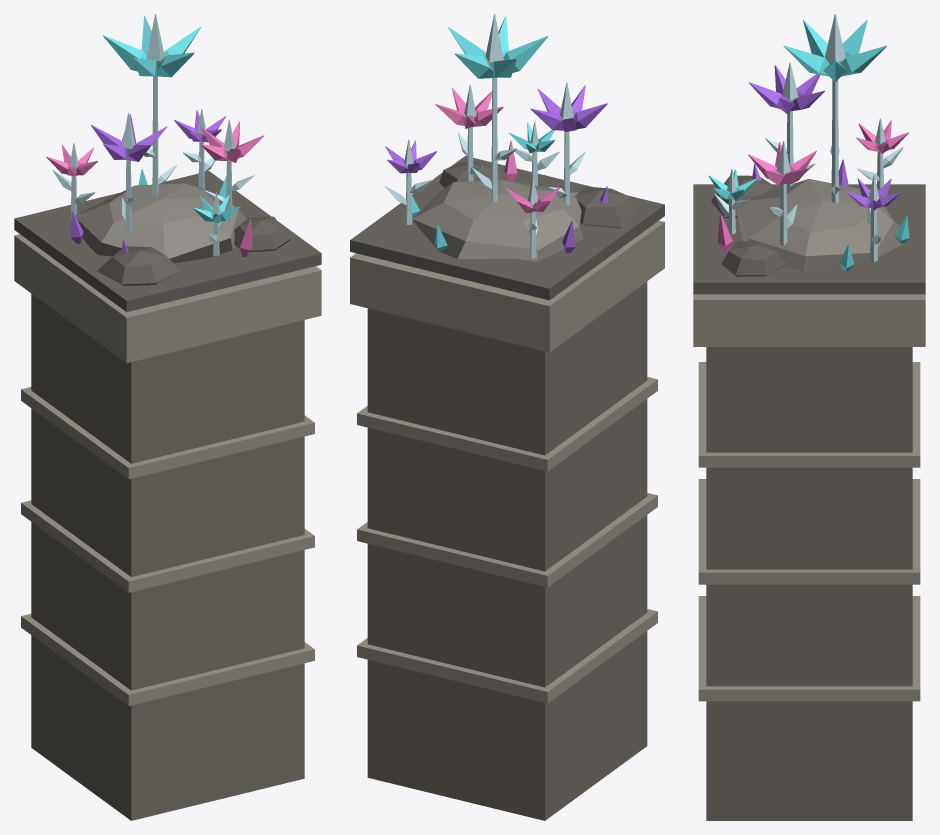
The model's file is decor_crystal_flowers.glb.
3 renders of one model, left to right at view 1: azimuth 30°, elevation 25°; view 2: azimuth 150°, elevation 25°; view 3: azimuth 270°, elevation 25°, orthographic. The views are drawn at different scales.
Visible parts, largest first — view 1: decor_crystal_flowers; view 2: decor_crystal_flowers; view 3: decor_crystal_flowers.
Boxes of the visible parts, x1,y1,x2,y2 form: decor_crystal_flowers: (14, 14, 321, 820); decor_crystal_flowers: (350, 14, 664, 820); decor_crystal_flowers: (693, 14, 925, 820).
Bounding box in the file's own units: 1.8 × 6.53 × 1.8.
